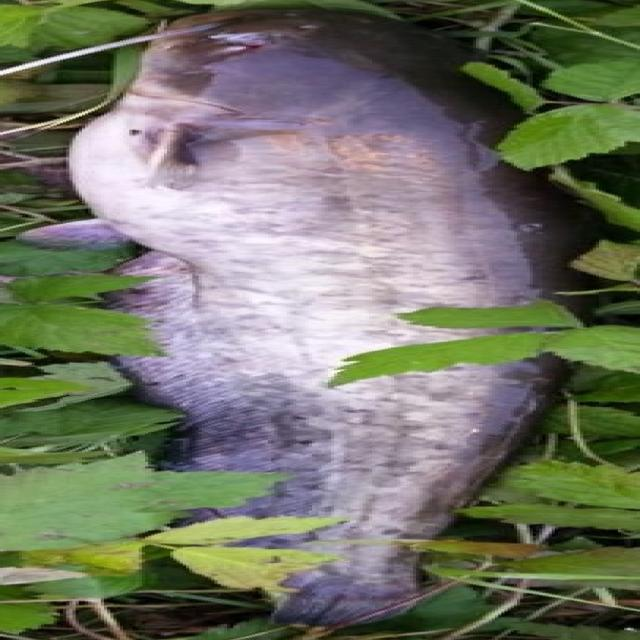Catfish: (31, 0, 640, 631)
